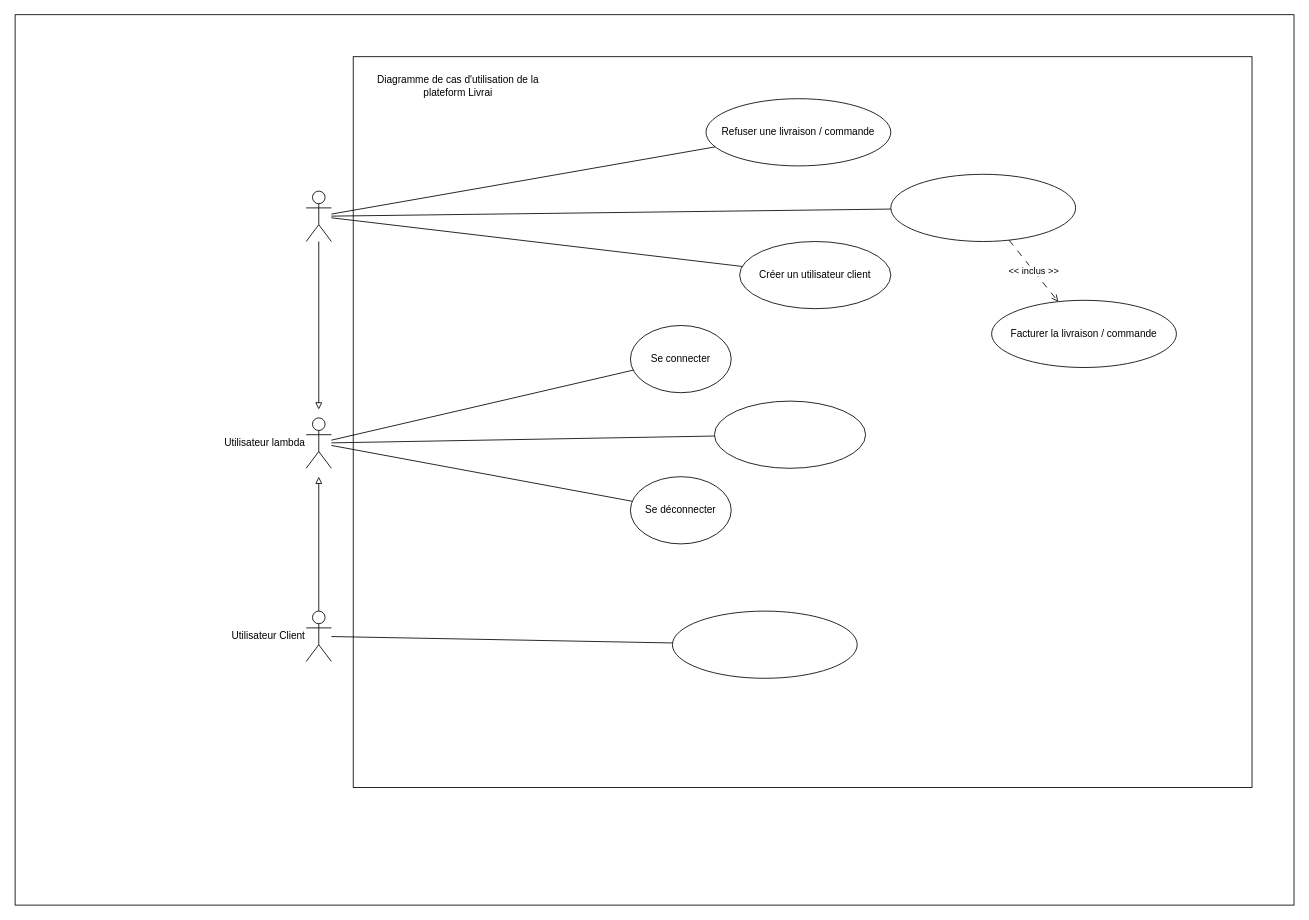
The diagram is 1309 pixels wide and 920 high, and some of its shapes have lost their labels. Each missing label, with the box of its shape:
Accepter une livraison / commande: (890, 173, 1076, 242)
Consulter les livraisons / commandes: (714, 400, 866, 468)
Créer une nouvelle commande / livraison: (672, 610, 857, 678)
Utilisateur Admin: (305, 190, 331, 242)
